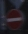No entry: (5, 6, 23, 28)
